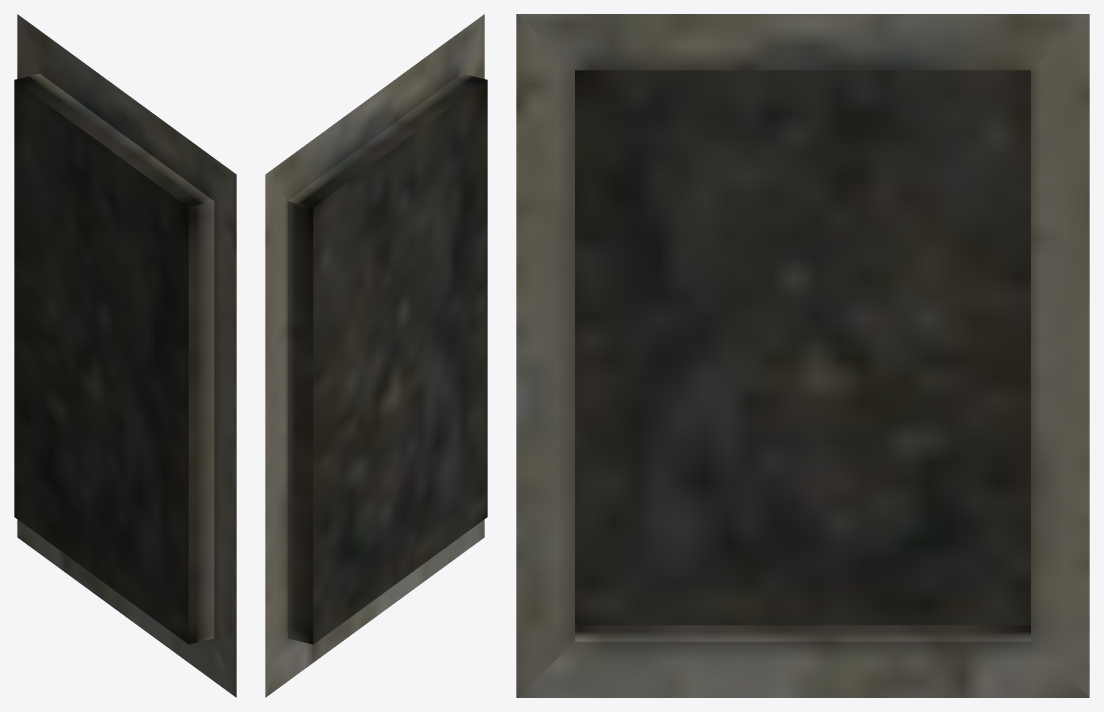
File: SmallWindow.FBX
3 views of the same model, side by side, from view 1: azimuth 30°, elevation 25°; view 2: azimuth 150°, elevation 25°; view 3: azimuth 270°, elevation 25° (orthographic). The views are drawn at different scales.
Visible parts, largest first — view 1: SmallWindow; view 2: SmallWindow; view 3: SmallWindow.
Boxes of the visible parts, <box> form: SmallWindow: <box>14,14,236,697</box>; SmallWindow: <box>265,14,487,697</box>; SmallWindow: <box>516,14,1089,697</box>.
Bounding box in the file's own units: 6.08 × 119 × 90.49.
